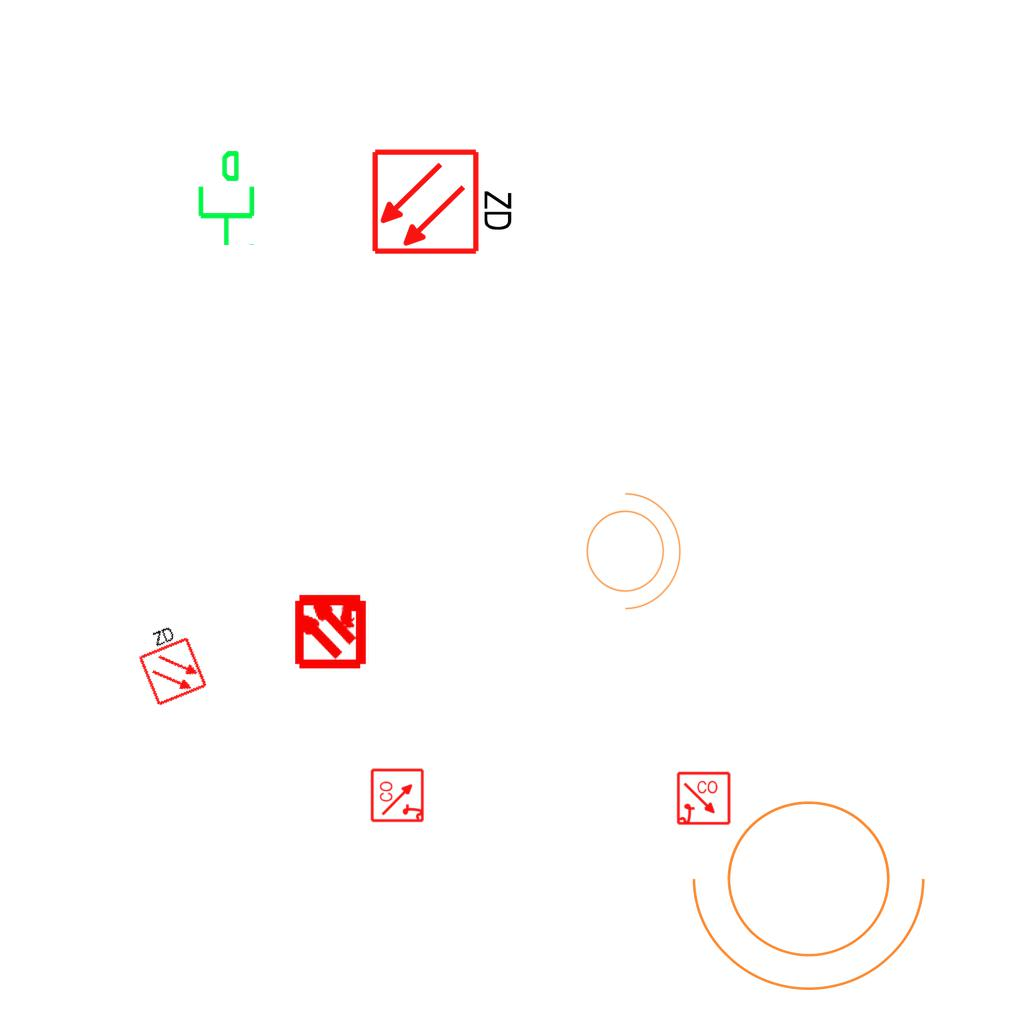Datenanschluss_einfach: (190, 148, 259, 248)
OT_Multisensormelder_(Kombination_RMO_WMD): (274, 573, 387, 686)
ROA_Rauchmelder_optisch_mit_Signalgeber_(Sockelsirene): (370, 767, 426, 823), (676, 771, 732, 827)
Scheinwerfer_fuer_Alarmbeleuchtung: (683, 776, 947, 1001), (574, 482, 686, 614)
ZD_Melder_in_Zwischendecke_mit_Revisionsoeffnung_mind_40_x_40_cm: (370, 143, 519, 257), (128, 618, 209, 708)
